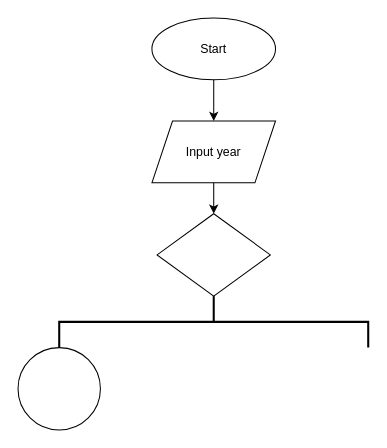
This 387x448 diagram has some shape labels left out. Each missing label, with the box of its shape:
Is not leap year: (17, 347, 100, 430)
year % 4 == 0: (156, 213, 270, 296)
